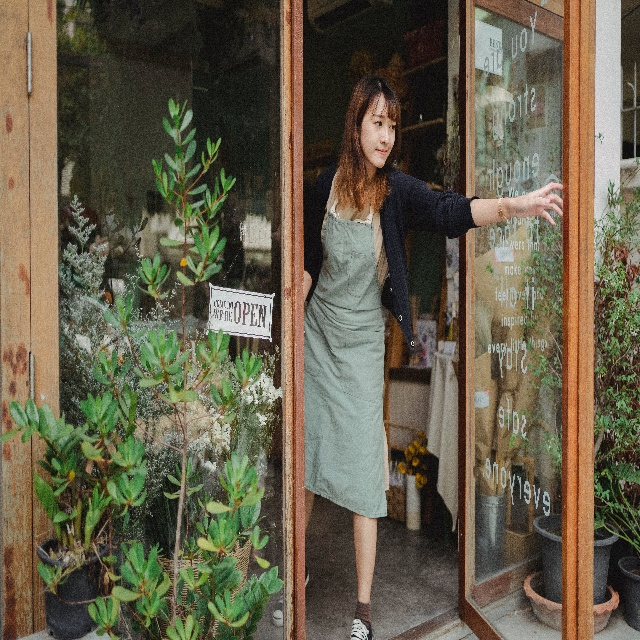Sin_guantes: (516, 179, 564, 228)
